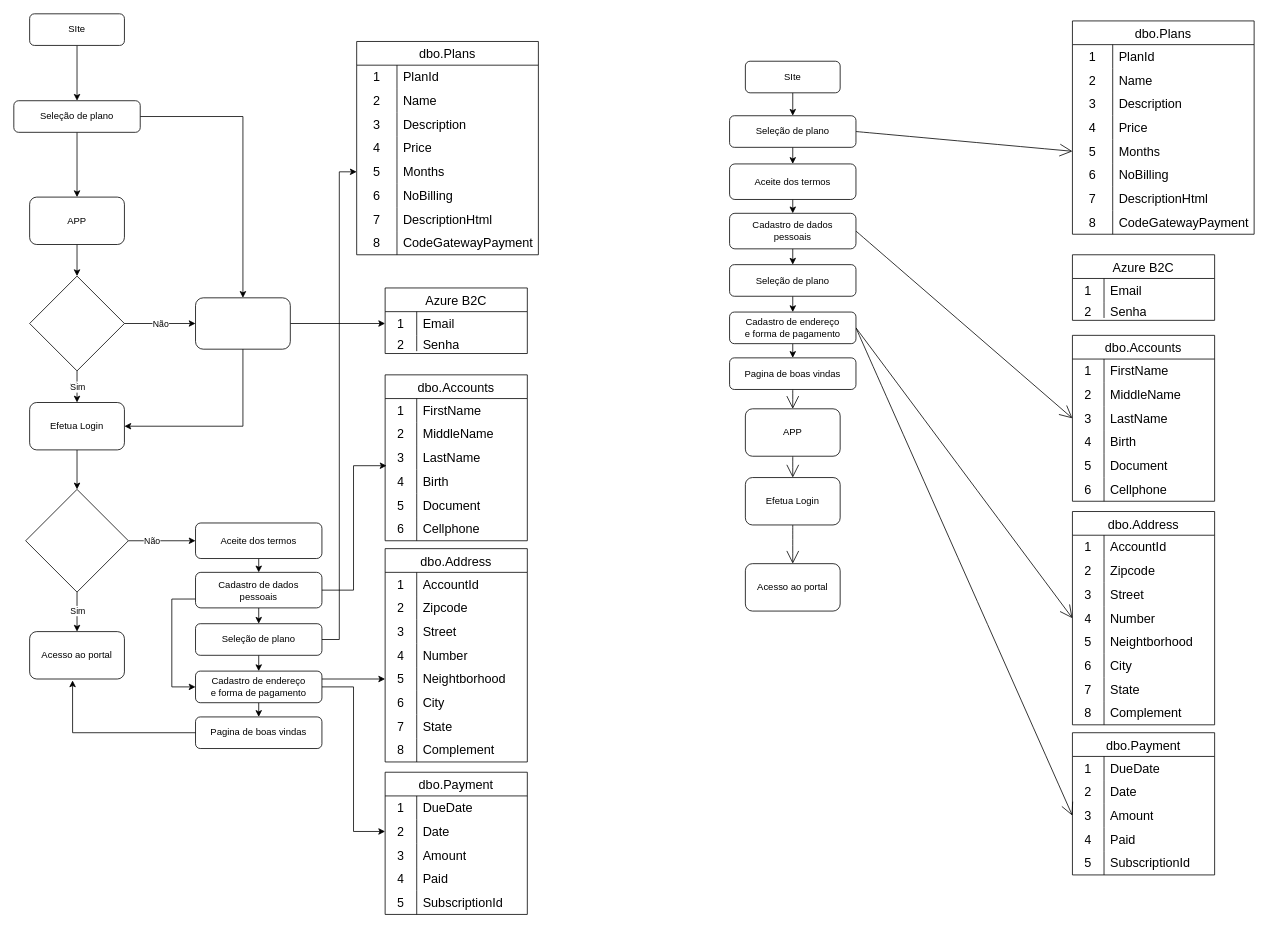
This 1273x928 diagram has some shape labels left out. Each missing label, with the box of its shape:
Dados iniciais ja dacastrados?: (25, 489, 128, 592)
Efetua Cadastro de usuário: (195, 297, 290, 349)
Possui Login?: (29, 275, 124, 371)
